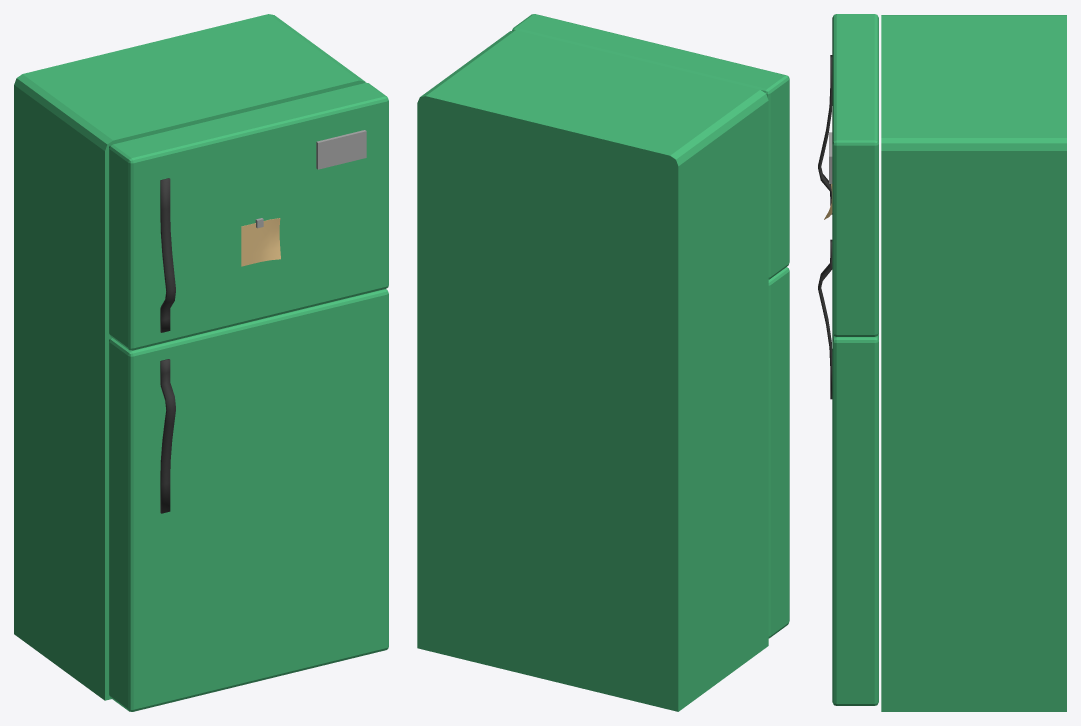
The model's file is refregerator.fbx.
3 views of the same model, side by side, from view 1: azimuth 30°, elevation 25°; view 2: azimuth 150°, elevation 25°; view 3: azimuth 270°, elevation 25° (orthographic). The views are drawn at different scales.
Visible parts, largest first — view 1: refregerator, note; view 2: refregerator; view 3: refregerator.
Boxes of the visible parts, <box> form: refregerator: <box>14,14,388,711</box>; note: <box>241,218,280,266</box>; refregerator: <box>417,14,789,711</box>; refregerator: <box>818,14,1066,711</box>.
Size of the model in its own units: 0.6097 by 1.24 by 0.4892.
